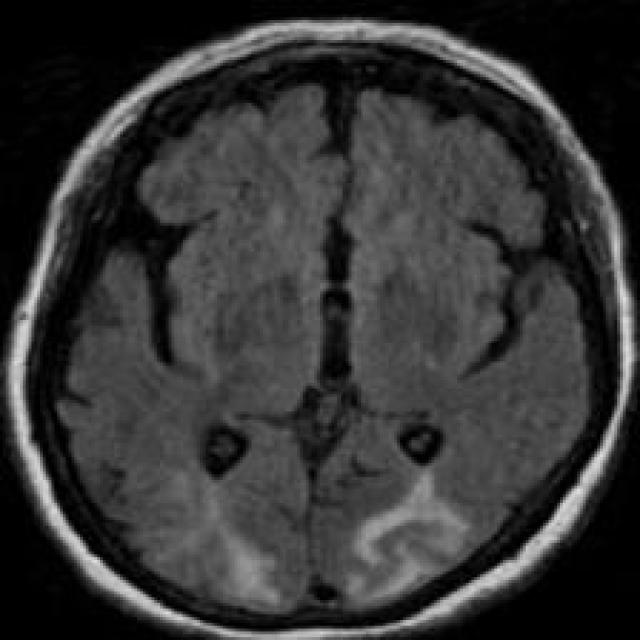no_tumor: (14, 20, 640, 640)
